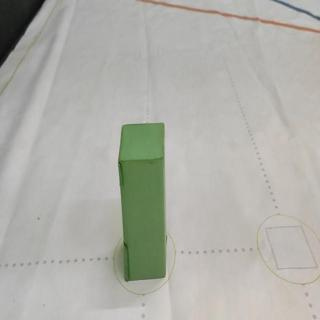greenbox: (119, 122, 168, 282)
